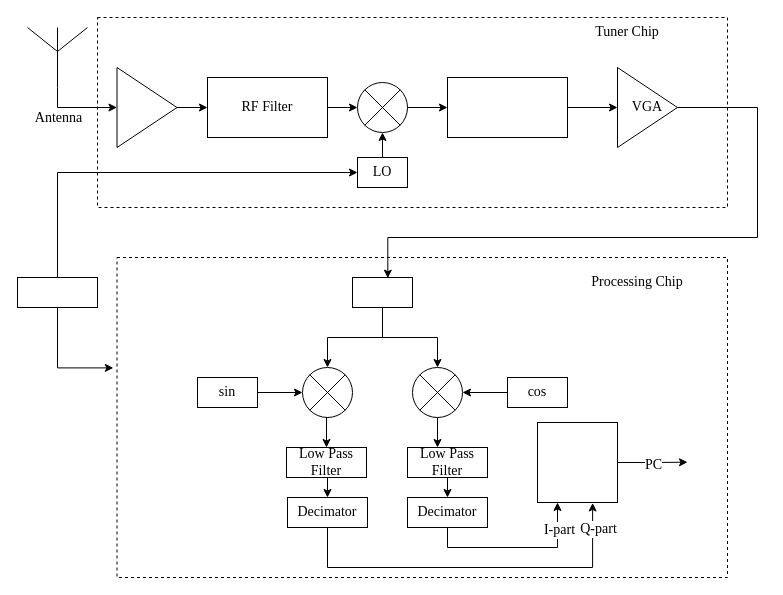
Image size: 783x595. Some labels were removed from this diagram. The shapes that lost their labels are listed below. From the top down, each one's box as (x1, y1, x2, y2) in pixels, then its label:
(116, 66, 177, 148): LNA
(446, 76, 568, 138): IF Filter
(16, 276, 98, 308): 28.8MHz
(352, 276, 412, 308): ADC
(536, 422, 618, 502): USB Control
